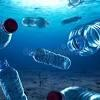Plastic: (23, 44, 72, 74), (64, 21, 99, 54)
